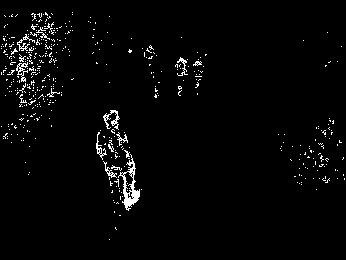person: (96, 109, 141, 215)
